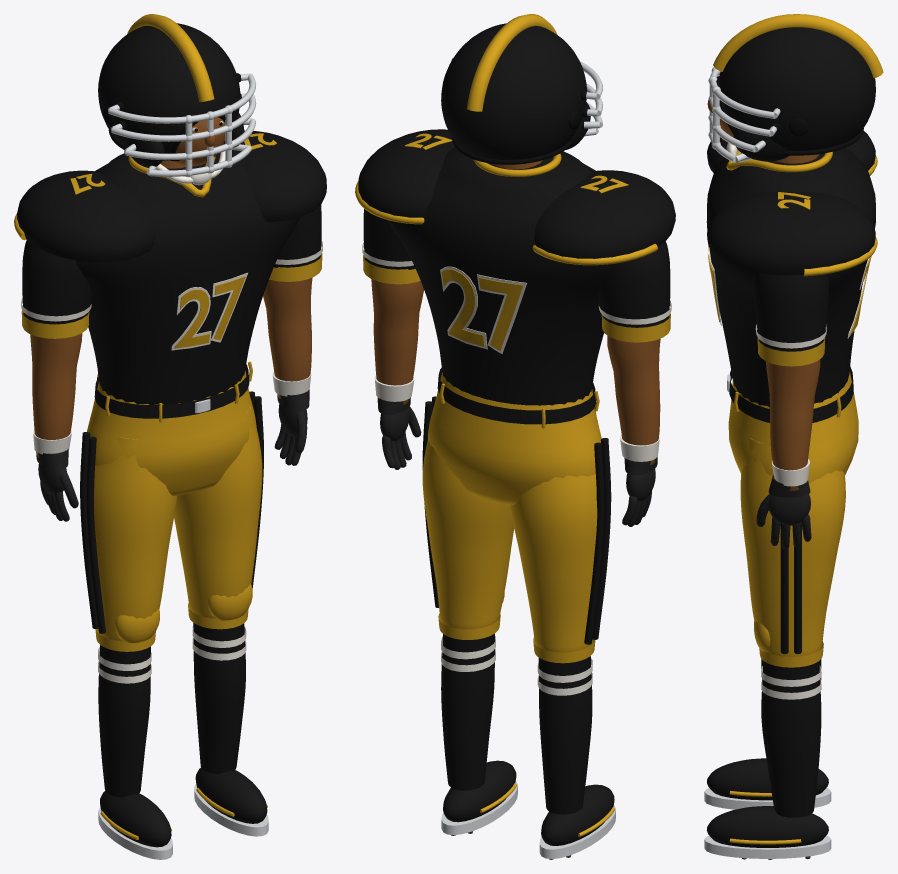
3 renders of one model, left to right at view 1: azimuth 30°, elevation 25°; view 2: azimuth 150°, elevation 25°; view 3: azimuth 270°, elevation 25°, orthographic. The views are drawn at different scales.
Parts seen in each view (by area): view 1: player_L5; view 2: player_L5; view 3: player_L5.
Part boxes in pixels (x1,y1,x2,y2): player_L5: (14, 14, 326, 859); player_L5: (355, 14, 675, 859); player_L5: (704, 14, 883, 859).
Size of the model in its own units: 0.7335 by 1.91 by 0.381.
